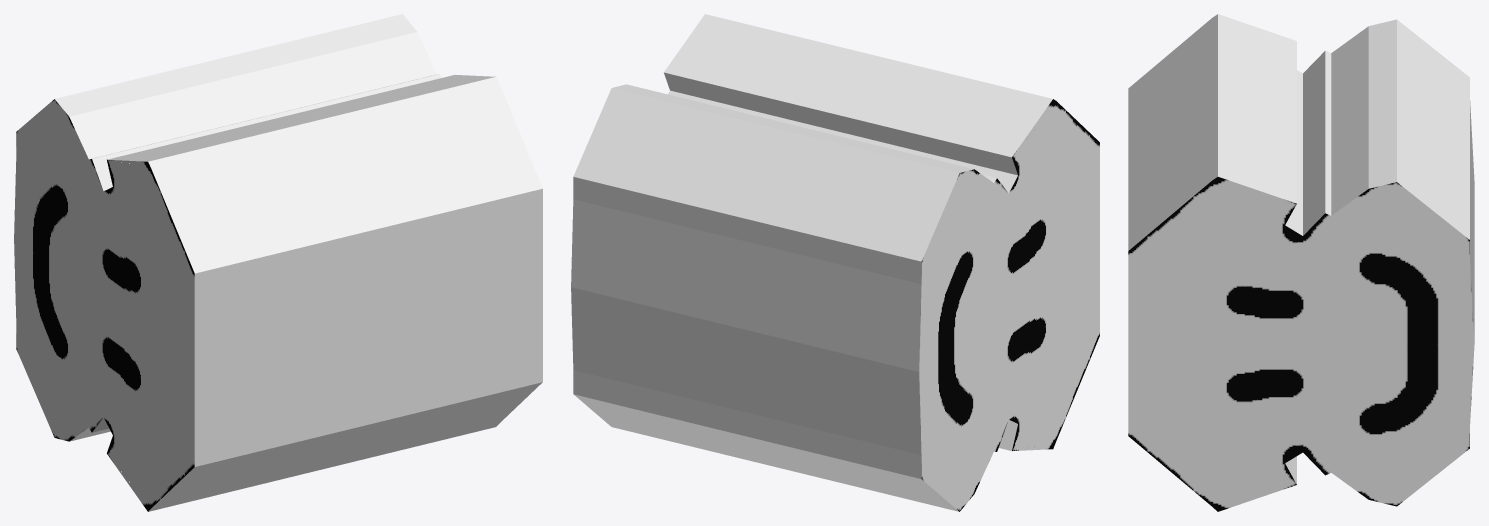
Rendered from cloud.obj.
The picture shows the model from 3 angles, left to right: view 1: azimuth 30°, elevation 25°; view 2: azimuth 150°, elevation 25°; view 3: azimuth 270°, elevation 25°; orthographic projection. The views are drawn at different scales.
Parts seen in each view (by area): view 1: mat3model0surf10, mat1model0surf24, mat3model0surf0, mat3model0surf4, mat3model0surf19, mat3model0surf1, mat3model0surf2, mat3model0surf7; view 2: mat1model0surf24, mat3model0surf8, mat3model0surf11, mat3model0surf12, mat3model0surf2, mat3model0surf13, mat3model0surf21, mat3model0surf9, mat3model0surf6, mat3model0surf1, mat3model0surf5; view 3: mat1model0surf23, mat3model0surf0, mat3model0surf2, mat3model0surf8, mat3model0surf4, mat3model0surf1, mat3model0surf7, mat3model0surf5, mat3model0surf3, mat3model0surf11.
Boxes of the visible parts, <box> form: mat3model0surf10: <box>194,188,542,466</box>; mat1model0surf24: <box>14,99,194,511</box>; mat3model0surf0: <box>148,77,542,273</box>; mat3model0surf4: <box>69,32,436,159</box>; mat3model0surf19: <box>148,382,542,511</box>; mat3model0surf1: <box>55,14,417,116</box>; mat3model0surf2: <box>108,75,495,161</box>; mat3model0surf7: <box>92,74,441,190</box>; mat1model0surf24: <box>919,99,1099,511</box>; mat3model0surf8: <box>573,88,959,261</box>; mat3model0surf11: <box>571,199,921,371</box>; mat3model0surf12: <box>571,287,921,454</box>; mat3model0surf2: <box>664,14,1052,157</box>; mat3model0surf13: <box>573,370,921,478</box>; mat3model0surf21: <box>574,394,959,511</box>; mat3model0surf9: <box>573,177,921,284</box>; mat3model0surf6: <box>664,72,1017,175</box>; mat3model0surf1: <box>612,84,973,172</box>; mat3model0surf5: <box>668,90,1034,193</box>; mat1model0surf23: <box>1128,177,1474,511</box>; mat3model0surf0: <box>1128,14,1217,250</box>; mat3model0surf2: <box>1218,14,1296,203</box>; mat3model0surf8: <box>1397,19,1469,239</box>; mat3model0surf4: <box>1331,26,1368,215</box>; mat3model0surf1: <box>1368,19,1396,188</box>; mat3model0surf7: <box>1303,51,1325,235</box>; mat3model0surf5: <box>1285,70,1302,235</box>; mat3model0surf3: <box>1325,50,1331,215</box>; mat3model0surf11: <box>1470,101,1474,342</box>.
Size of the model in its own units: 32.25 by 31 by 29.
